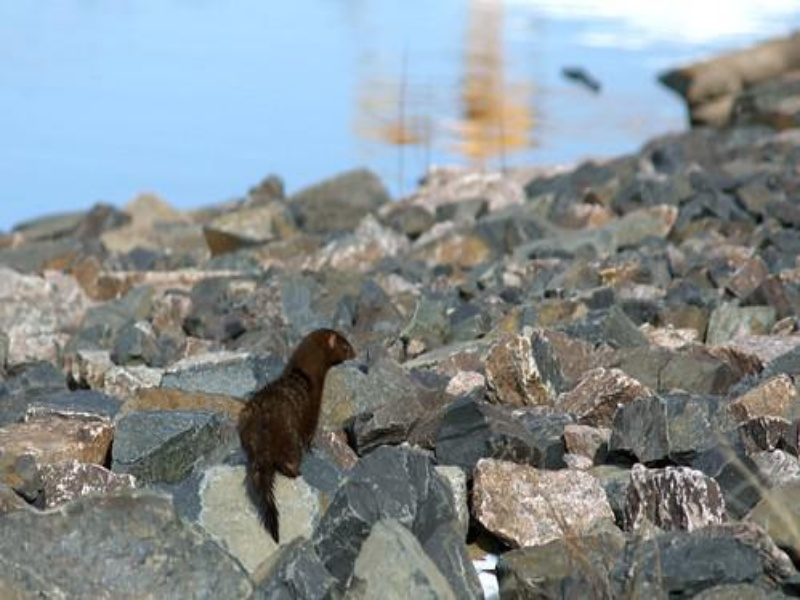minkish: (239, 328, 355, 546)
